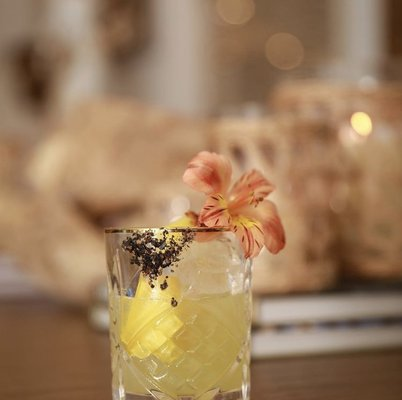soup: (105, 225, 254, 397)
